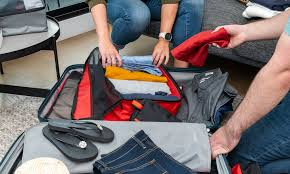suitcase: (1, 61, 239, 174)
